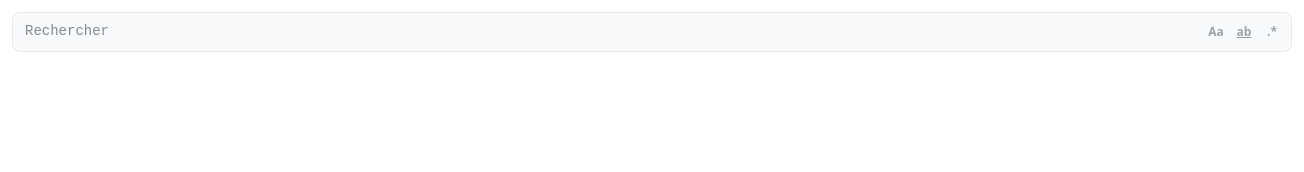
Test: SearchBar - Controls functionality › clears text when clear button is clicked
In the text box with placeholder "Rechercher": (652, 32) [12,12,1292,52], type "test"
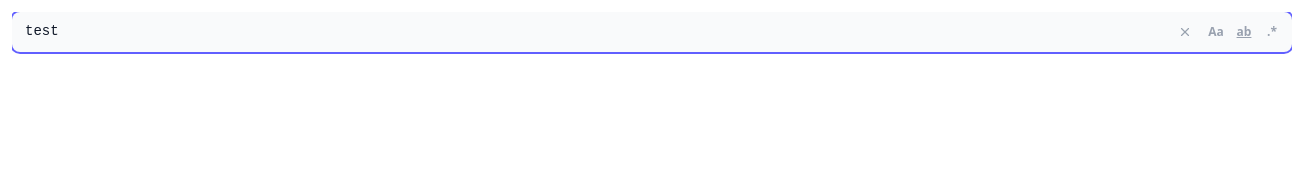
Click the button titled "Effacer": (1185, 32) [1174,21,1196,43]
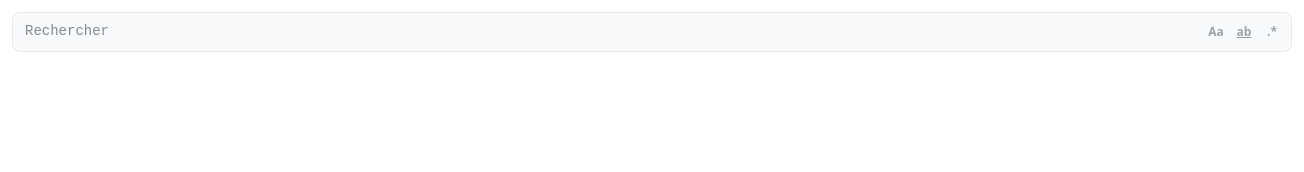
Check: the text box with placeholder "Rechercher" is empty, box [12,12,1292,52]
